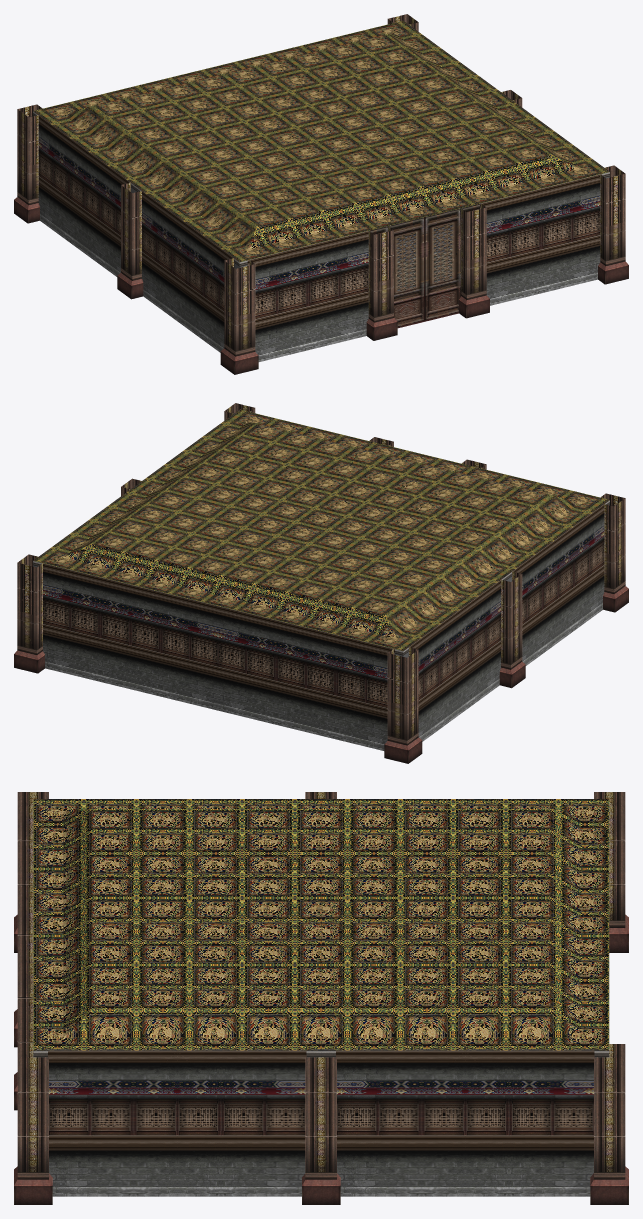
Rendered from SwordSpirit_Room01.FBX.
3 renders of one model, top to bottom at view 1: azimuth 30°, elevation 25°; view 2: azimuth 150°, elevation 25°; view 3: azimuth 270°, elevation 25°, orthographic. The views are drawn at different scales.
Visible parts, largest first — view 1: Object451; view 2: Object451; view 3: Object451.
Part boxes in pixels (box(x1,y1,x2,y2)): Object451: box(14, 14, 628, 374); Object451: box(14, 403, 628, 763); Object451: box(14, 792, 628, 1204).
Bounding box in the file's own units: 2393 × 672 × 2319.
4 materials, 4 textured.
